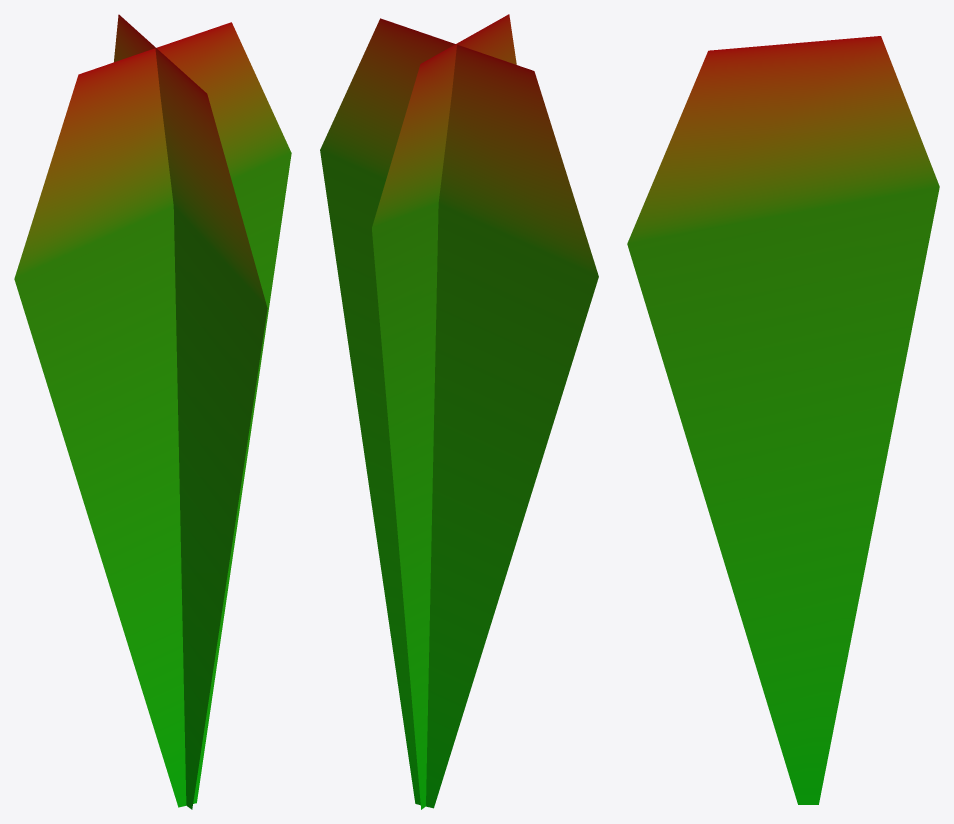
File: Var11_LOD5.fbx
3 renders of one model, left to right at view 1: azimuth 30°, elevation 25°; view 2: azimuth 150°, elevation 25°; view 3: azimuth 270°, elevation 25°, orthographic. The views are drawn at different scales.
Visible parts, largest first — view 1: _9x5d_Var11_LOD5; view 2: _9x5d_Var11_LOD5; view 3: _9x5d_Var11_LOD5.
Part boxes in pixels (bbox=[...]): _9x5d_Var11_LOD5: bbox=[14, 14, 291, 809]; _9x5d_Var11_LOD5: bbox=[320, 14, 598, 809]; _9x5d_Var11_LOD5: bbox=[627, 36, 939, 804].
Bounding box in the file's own units: 17.16 × 45.69 × 17.16.
